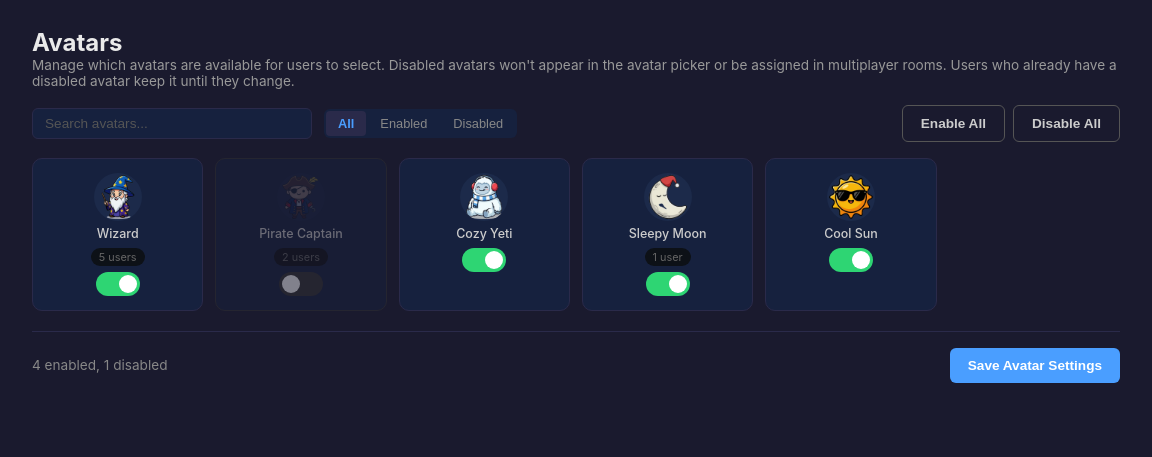
Test: AdminAvatarsPage › shows error on save failure
This screenshot has width=1152, height=457.
Click the button with test id "avatars-save".
click(1035, 366)  # box [950,348,1120,383]
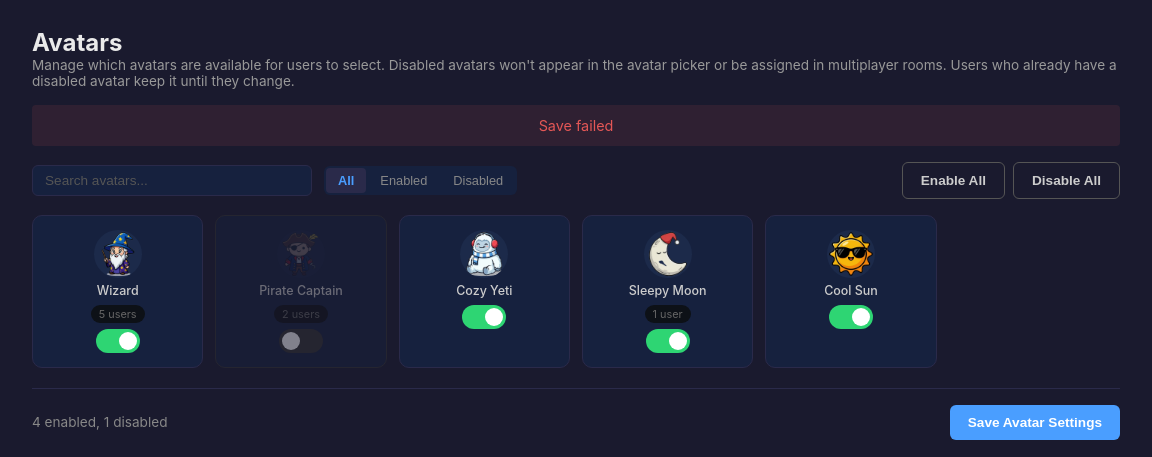
Check: the text "Save failed" is shown, box [32,105,1120,146]
